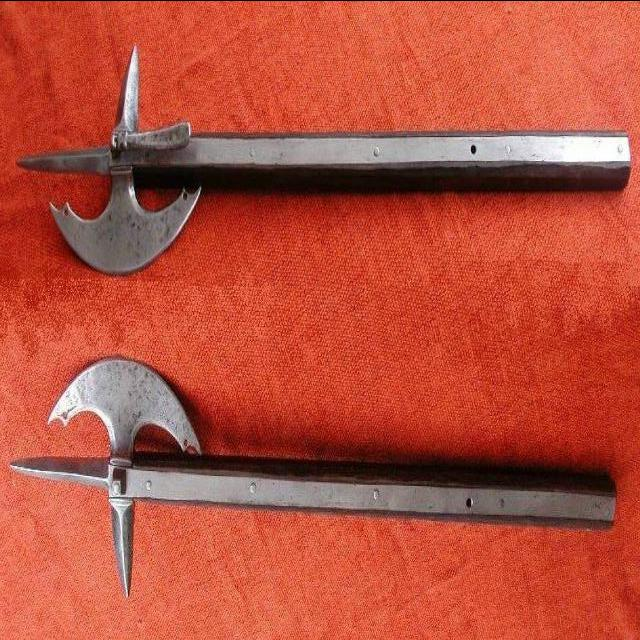axe: (14, 49, 632, 278), (47, 362, 621, 597)
